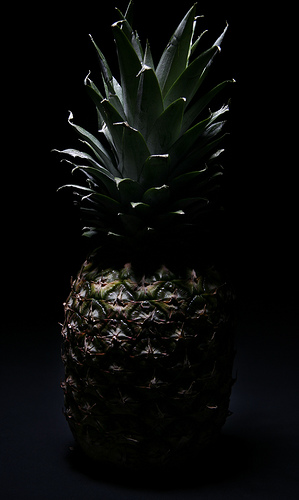pineapple: (51, 0, 236, 461)
